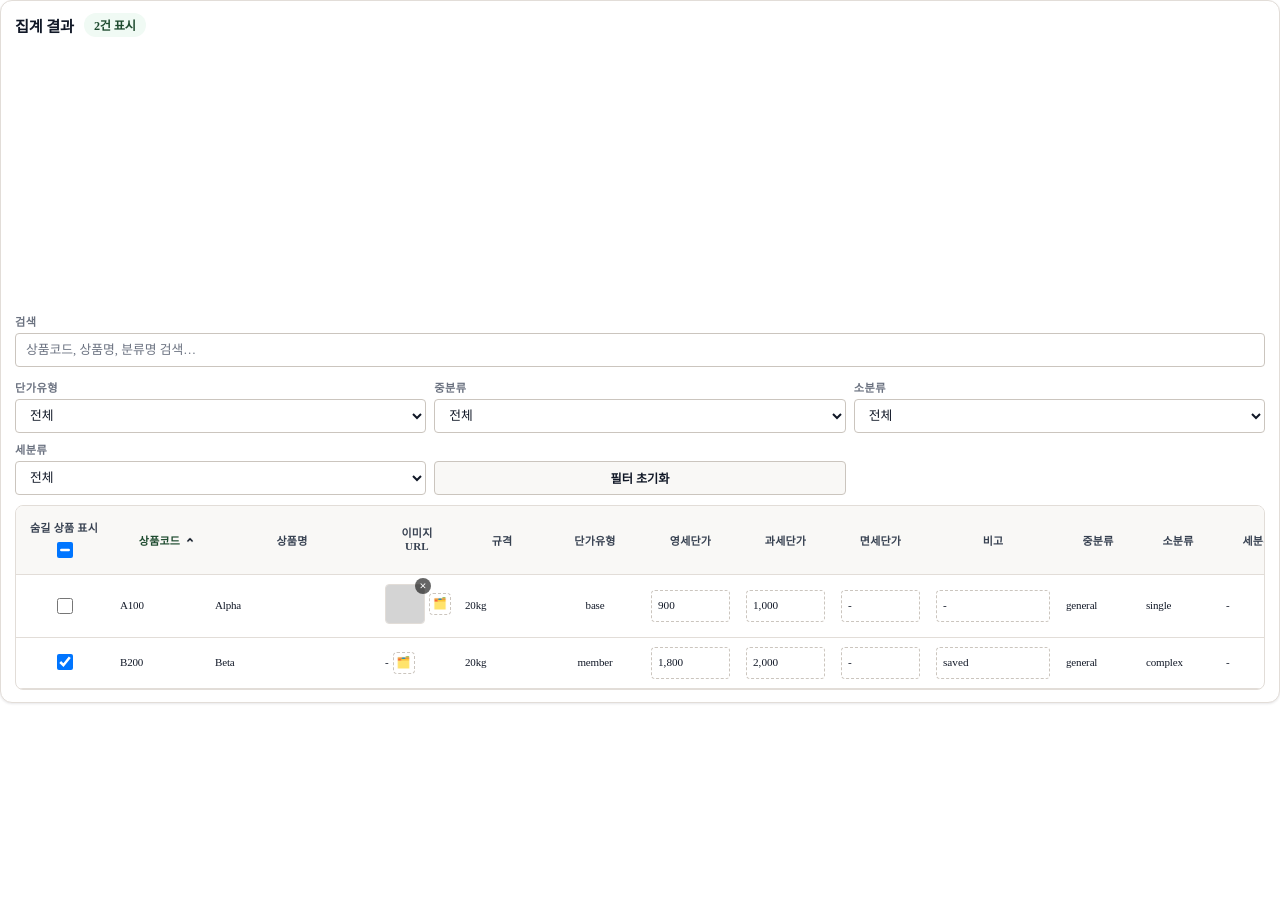
Test case: excel extract workbook review table › opens the storage picker for a row that already has an image, to allow swapping it
This screenshot has width=1280, height=900.
Step 1. Click the button named "img-picker-A100__01" → {"x": 440, "y": 604}, box [429,593,451,615]
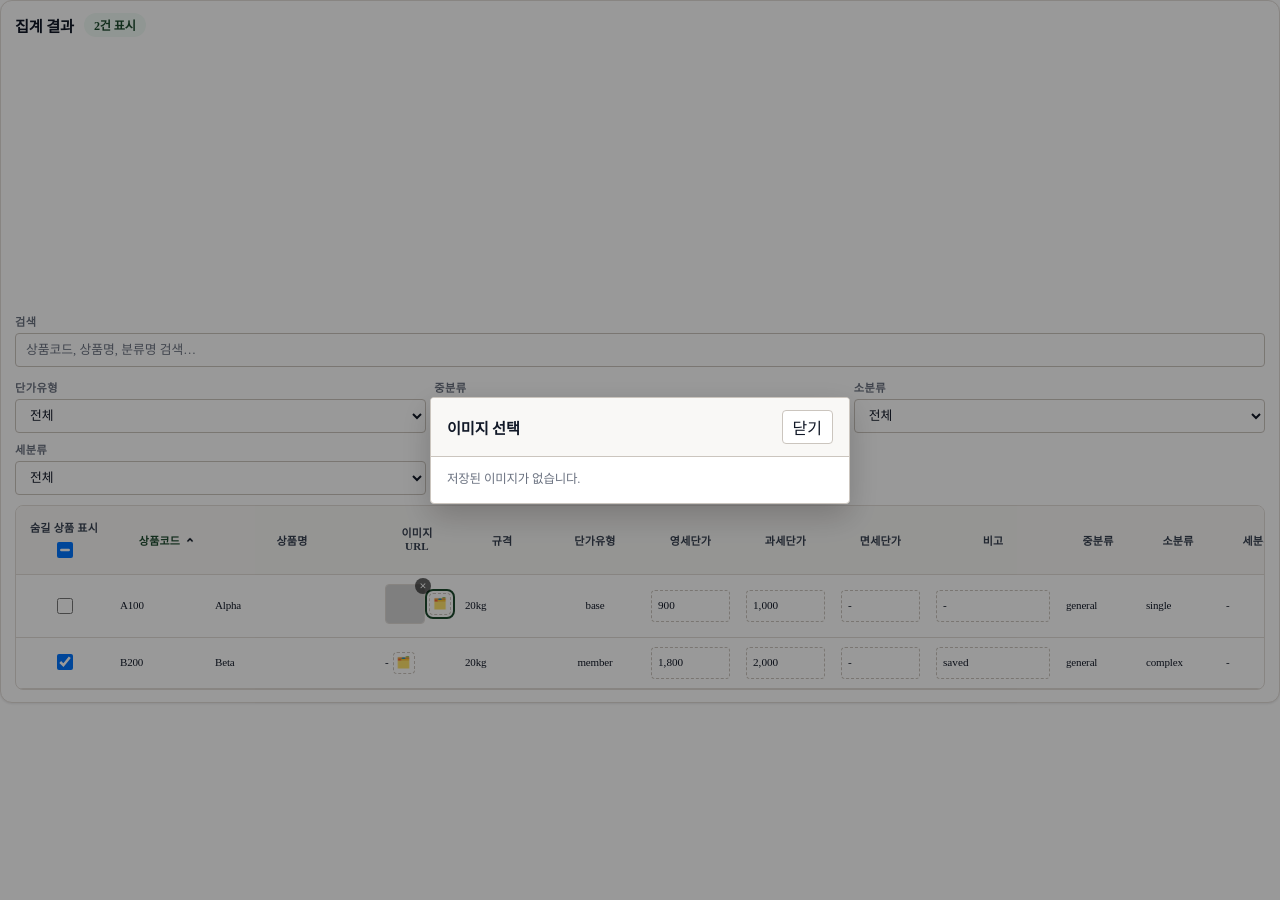
Expected: the dialog named "img-picker-popover-A100__01" is shown, [430,396,850,504]
